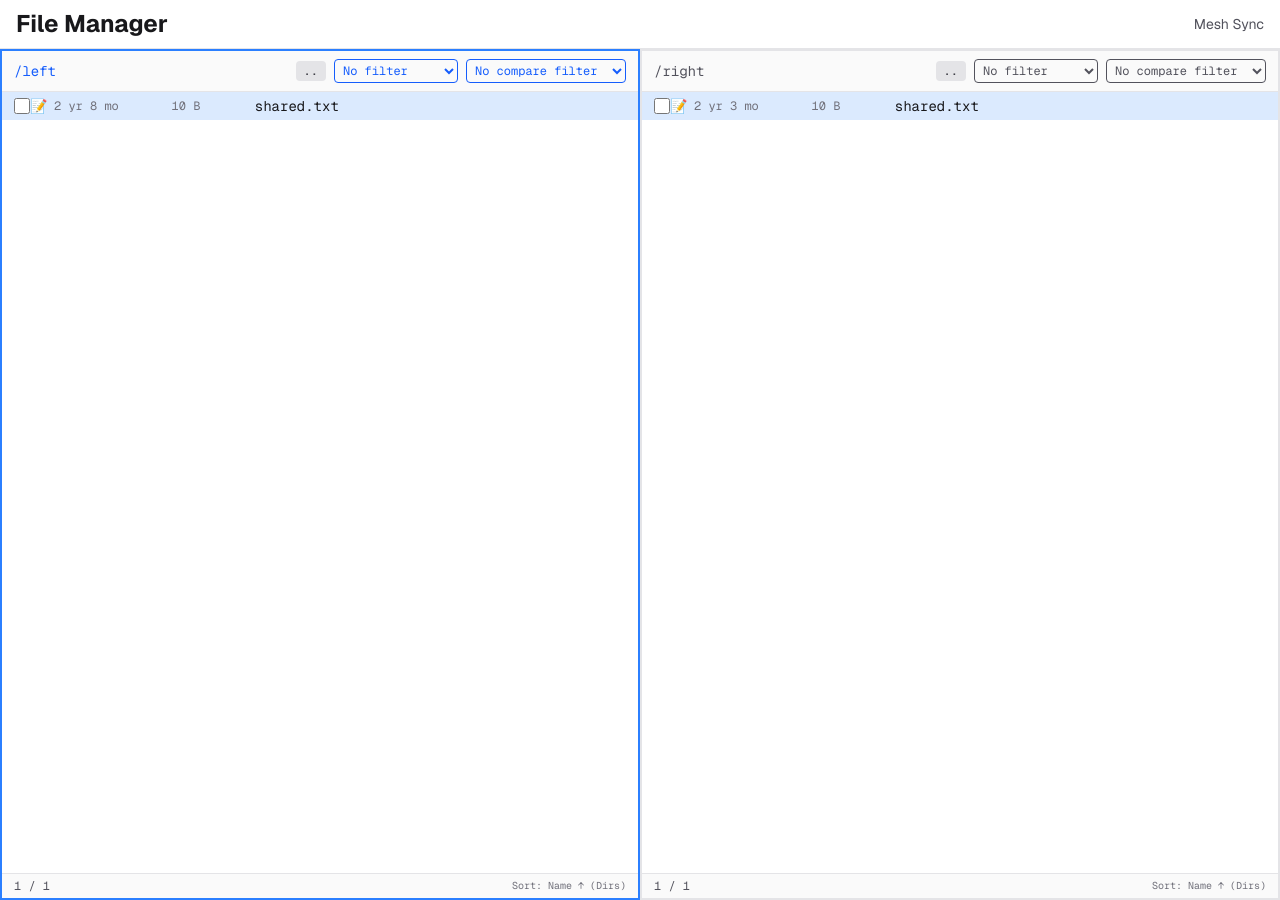
WorkspaceView rename regex [RENAME_REGEX] › opens Rename Regex dialog from file row context menu and posts bulk-rename
Expected: the element with test id "pane-0" is shown, [0,49,640,899]
Right-click the text "shared.txt" at (320, 106), box [2,92,638,120]
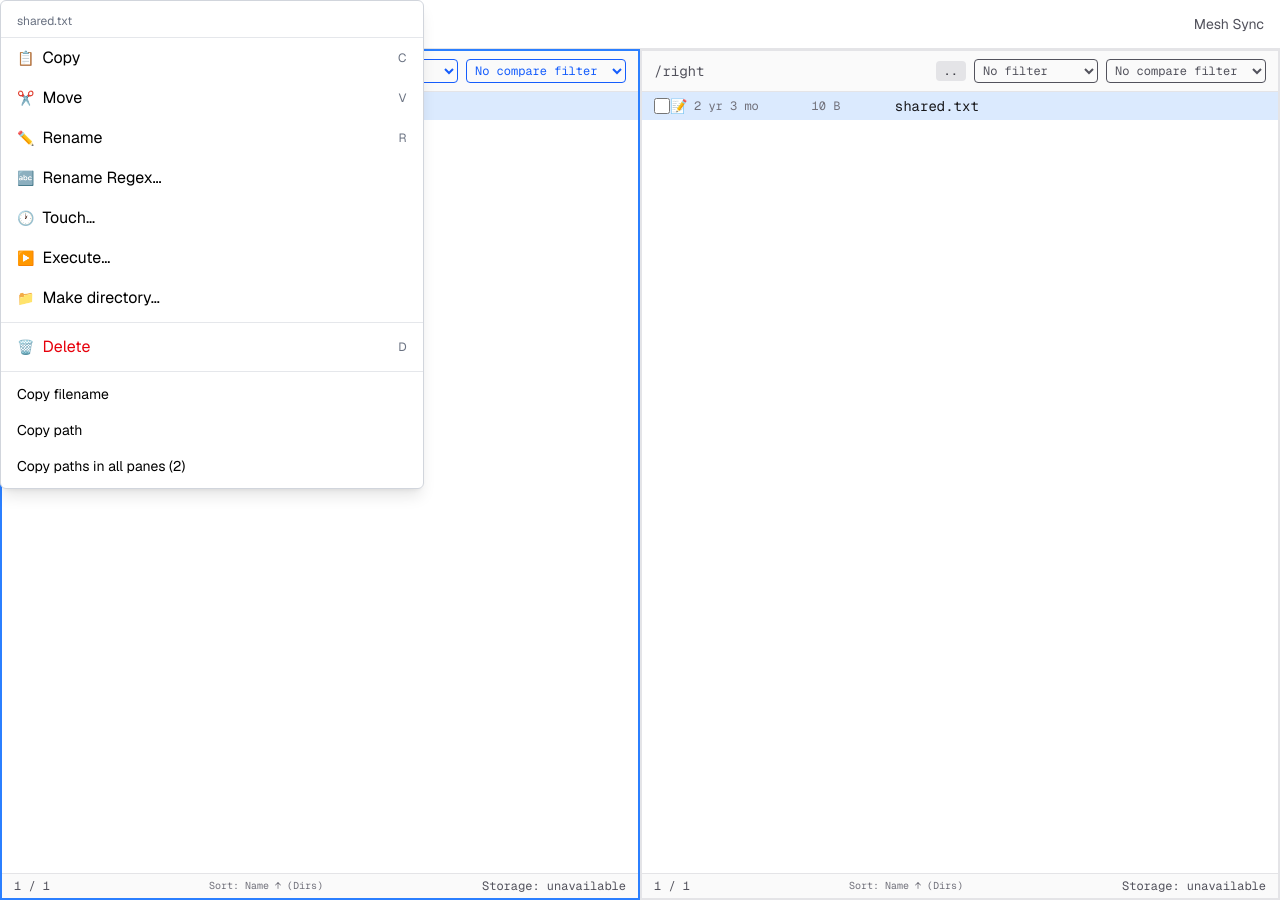
Click the menu item with test id "rename-regex-menu-item" at (102, 178), box [1,158,422,198]
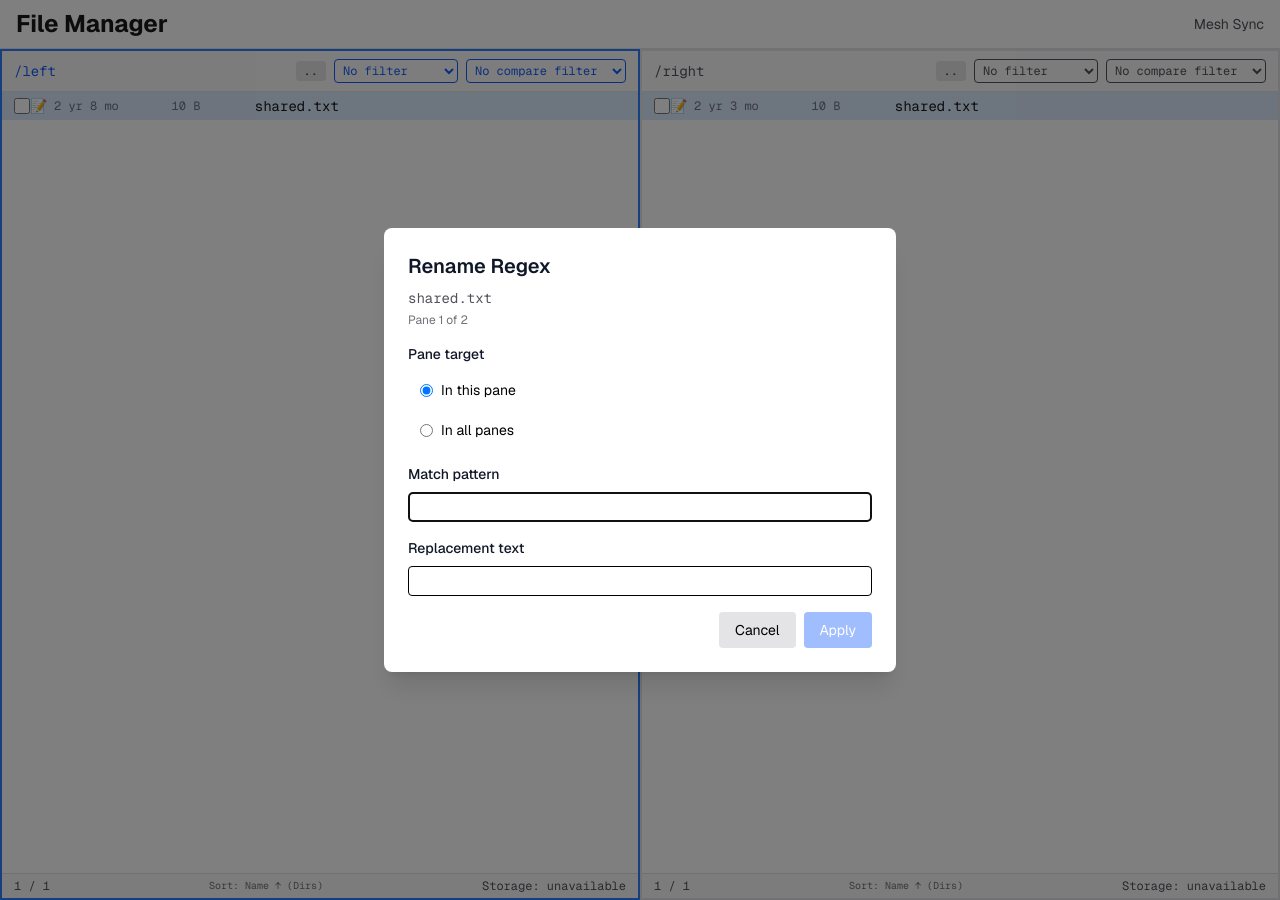
Expected: the dialog with test id "rename-regex-dialog" is shown, [384,228,896,672]
Click the radio button labelled "In all panes" at (426, 430), box [420,424,433,436]
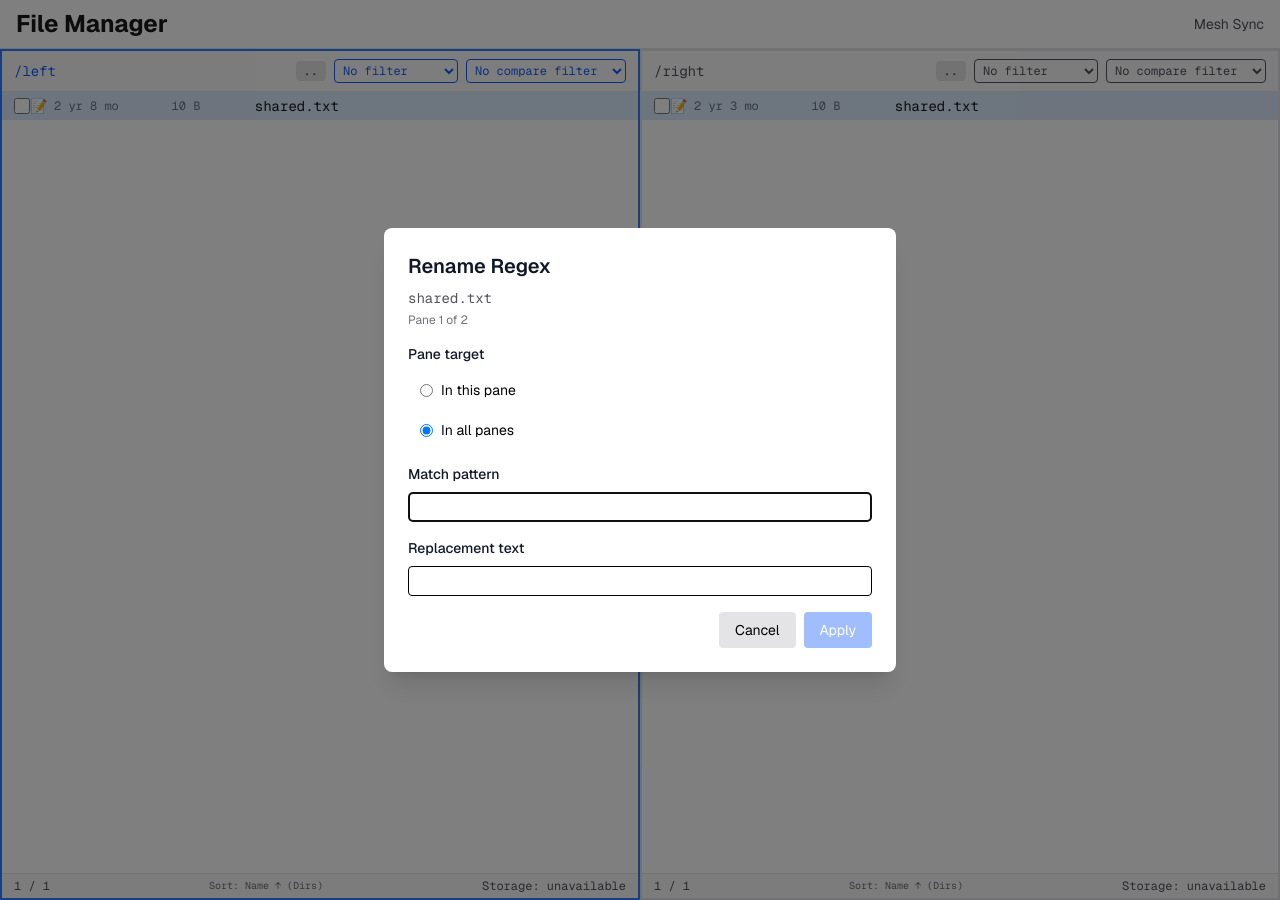
Type "\\.txt$" into the field with test id "rename-regex-match" at (640, 507), box [408,492,872,522]
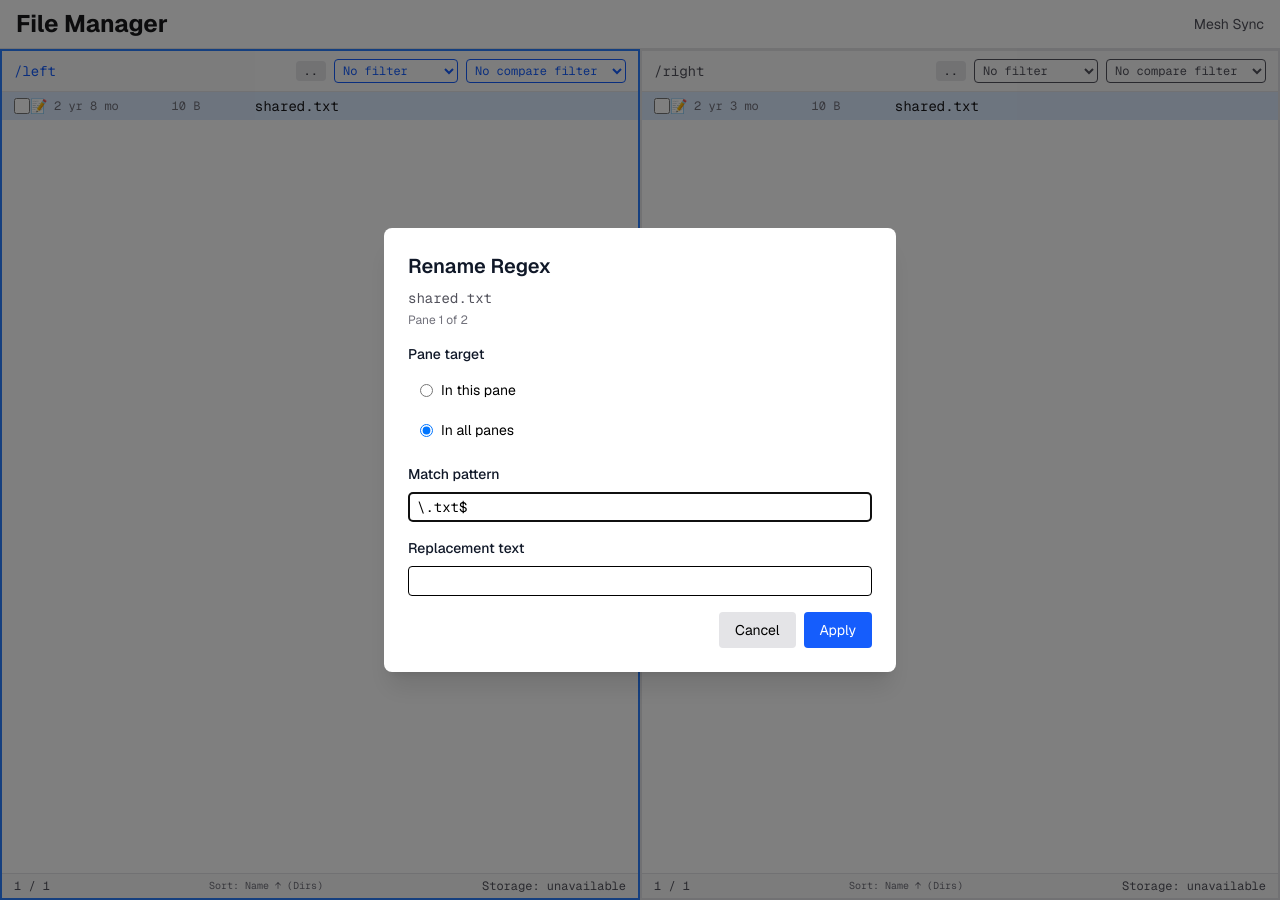
Type ".bak" into the field with test id "rename-regex-replacement" at (640, 581), box [408,566,872,596]
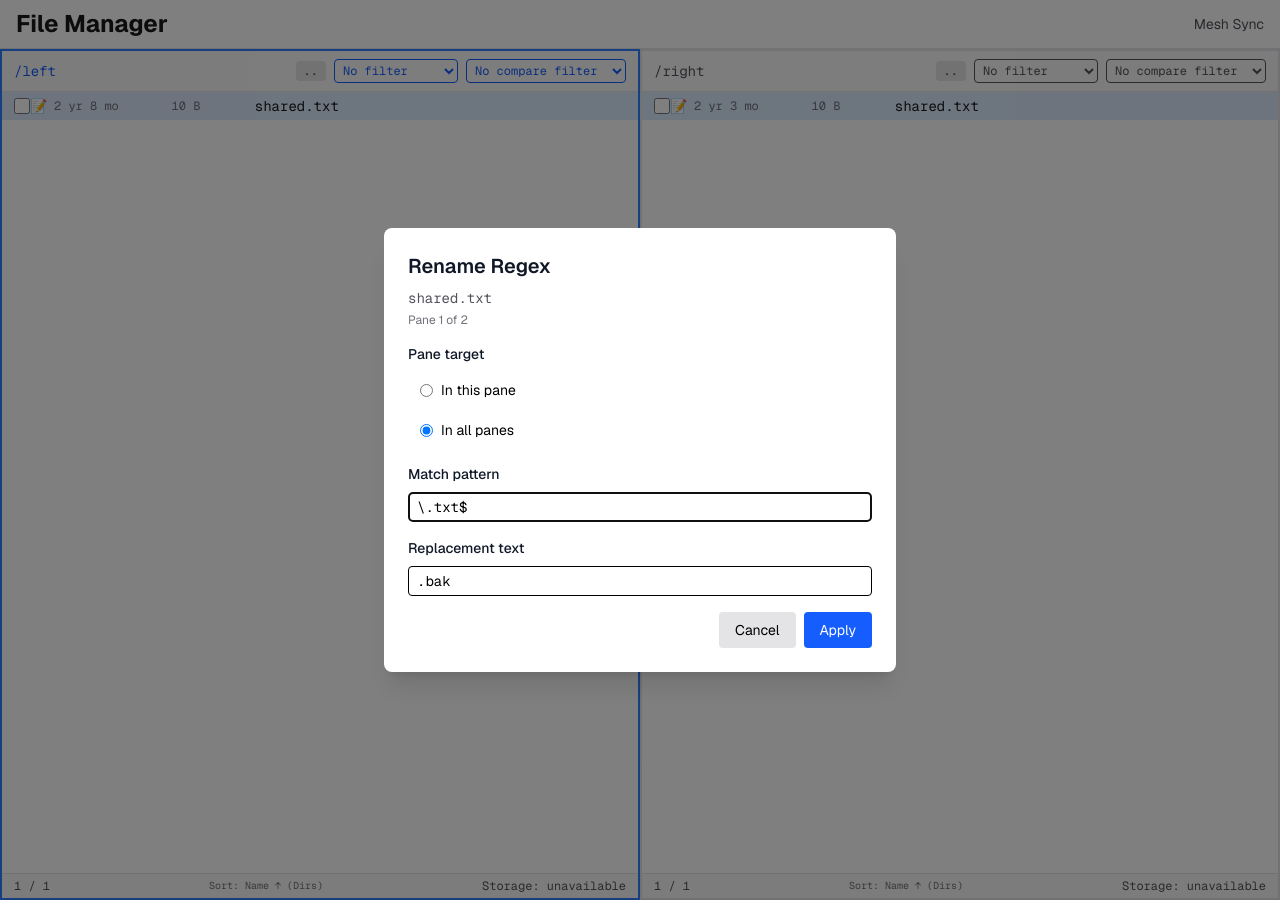
Click the button with test id "rename-regex-apply" at (838, 630), box [804,612,872,648]
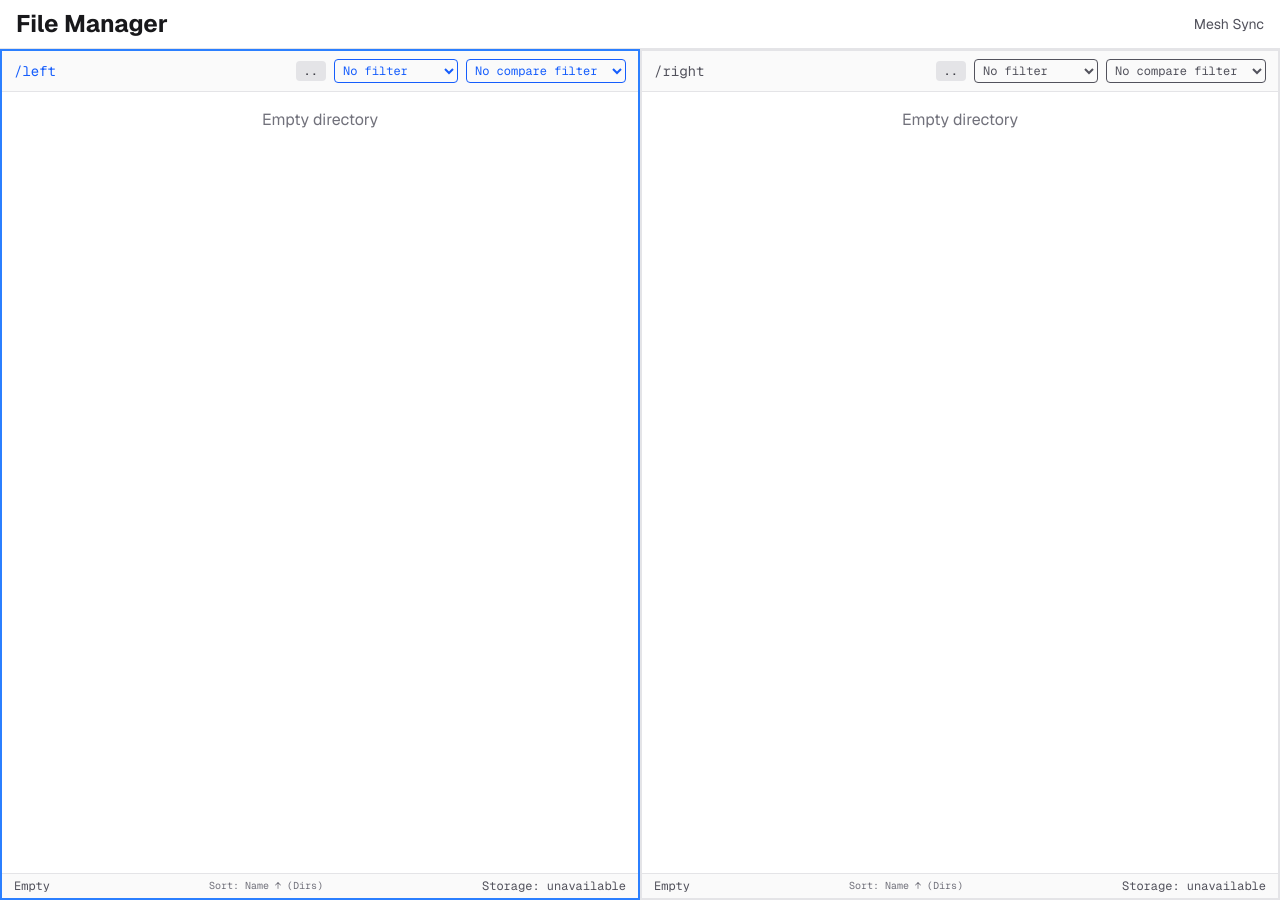
Expected: the dialog with test id "rename-regex-dialog" is gone
